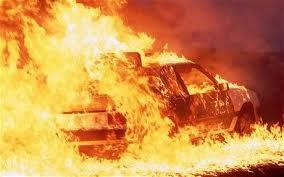fire: (0, 6, 221, 166)
